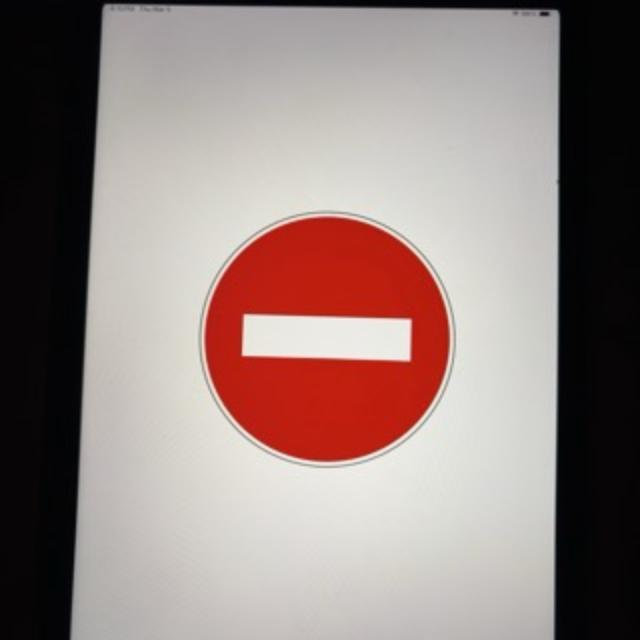NO ENTRY: (200, 210, 454, 466)
